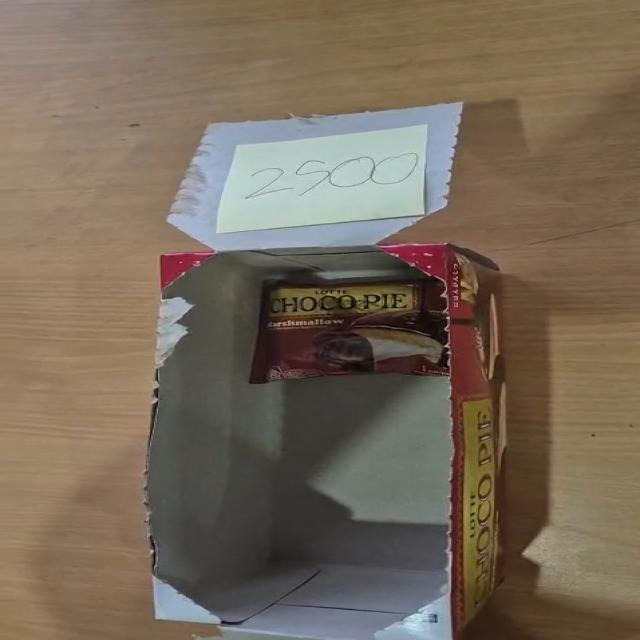Chocopie: (249, 277, 450, 383)
